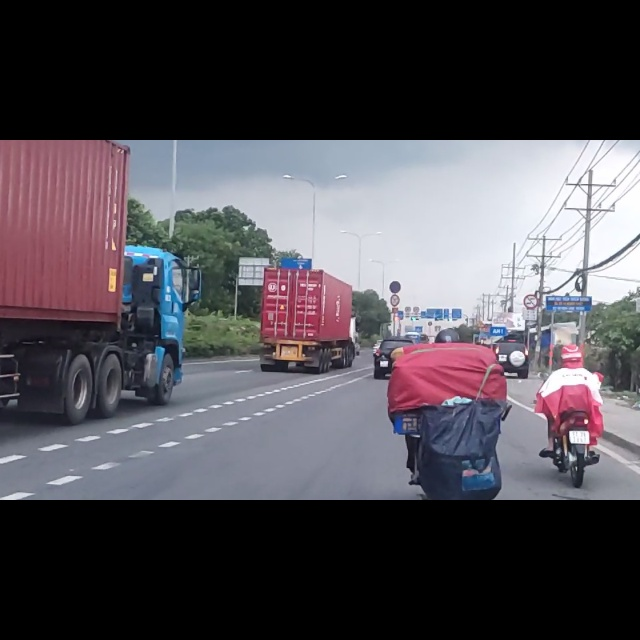bien_chi_dan: (524, 274, 538, 301), (389, 250, 402, 273)
